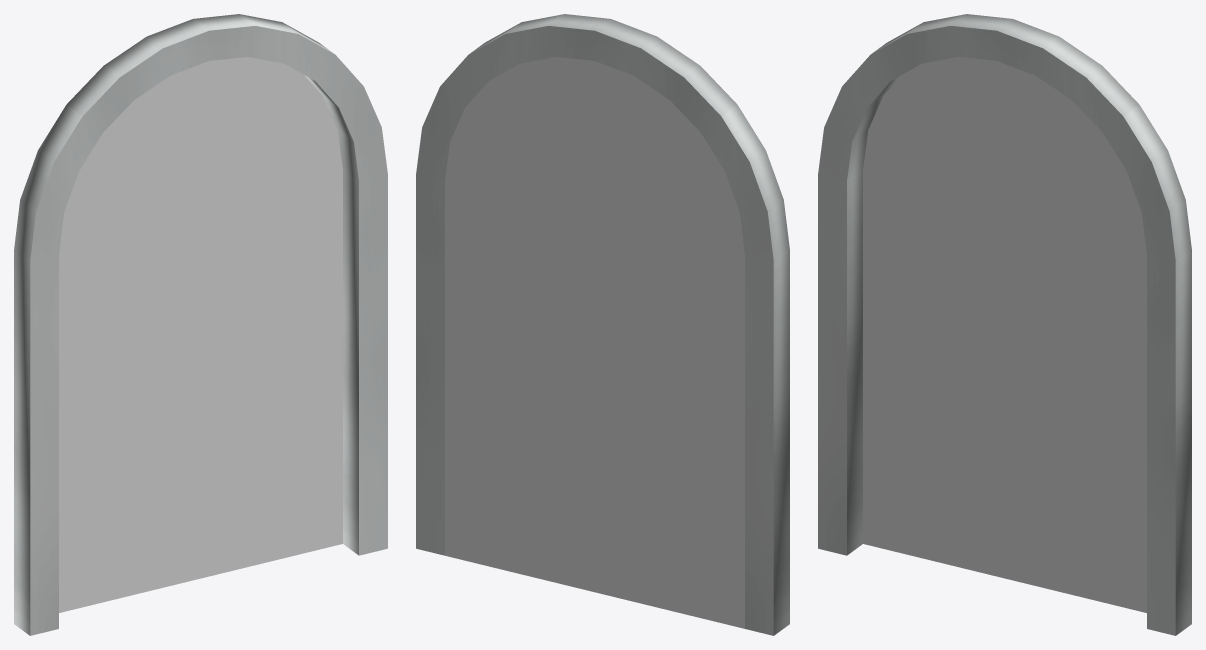
The model's file is Archway.glb.
3 renders of one model, left to right at view 1: azimuth 30°, elevation 25°; view 2: azimuth 150°, elevation 25°; view 3: azimuth 330°, elevation 25°, orthographic.
Parts seen in each view (by area): view 1: Entry, Arch; view 2: Entry, Arch; view 3: Entry, Arch.
Boxes of the visible parts, box(x1,y1,x2,y2) form: Entry: box(59, 57, 342, 612); Arch: box(14, 14, 387, 635); Entry: box(445, 57, 744, 628); Arch: box(416, 14, 789, 635); Entry: box(863, 57, 1146, 612); Arch: box(818, 14, 1191, 635).
Bounding box in the file's own units: 2 × 3 × 0.1564.
Materials: 2 (1 with a texture image).
